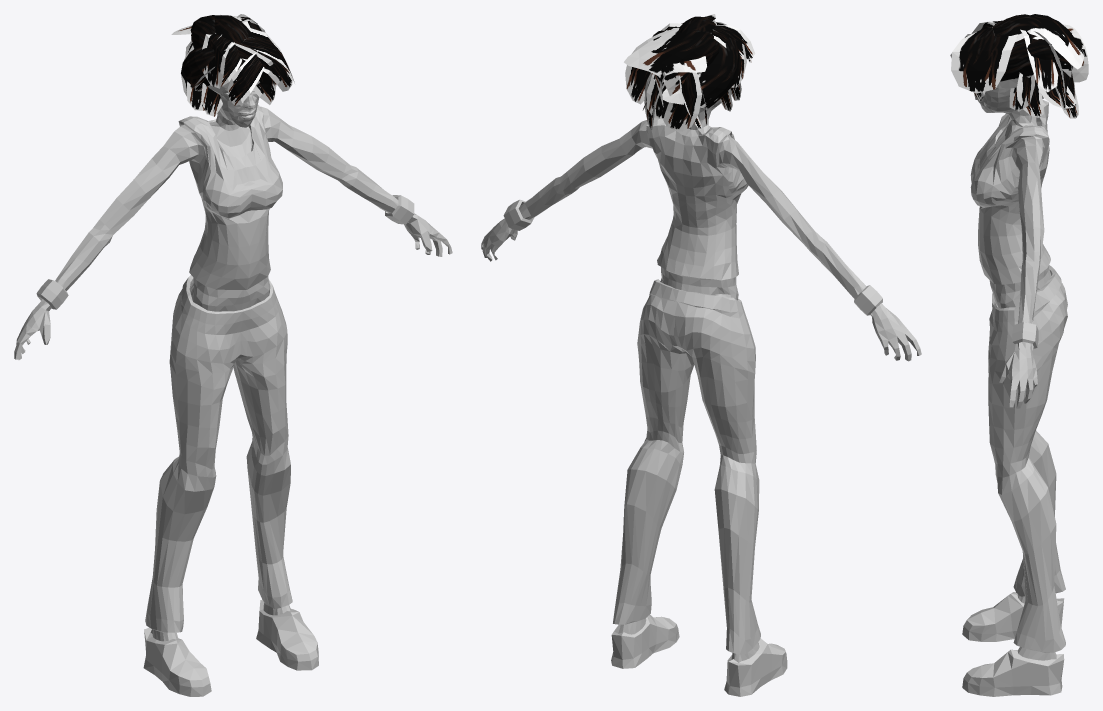
Rendered from FemaleOpenGameArt.obj.
The picture shows the model from 3 angles, left to right: view 1: azimuth 30°, elevation 25°; view 2: azimuth 150°, elevation 25°; view 3: azimuth 270°, elevation 25°; orthographic projection.
Visible parts, largest first — view 1: Kz, KzHair; view 2: Kz, KzHair; view 3: Kz, KzHair.
Part boxes in pixels (x1,y1,x2,y2): Kz: (14, 87, 452, 696); KzHair: (171, 14, 294, 116); Kz: (481, 100, 921, 696); KzHair: (624, 14, 755, 131); Kz: (962, 83, 1067, 696); KzHair: (950, 14, 1088, 118).
Bounding box in the file's own units: 1.42 × 2 × 0.3887.
